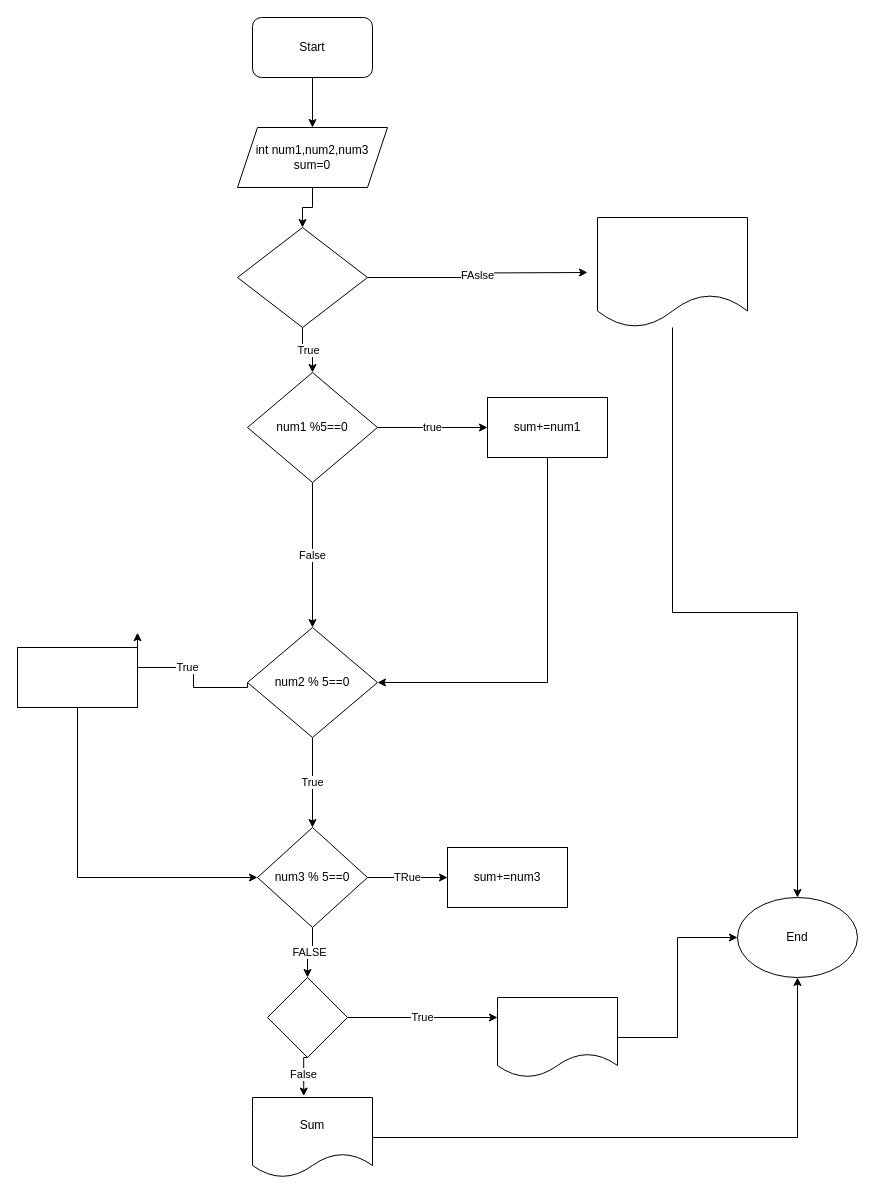
The diagram is 875 pixels wide and 1195 high, and some of its shapes have lost their labels. Each missing label, with the box of its shape:
5 e bolunen eded yoxdur: (496, 996, 618, 1078)
Eded musbet olmalidi: (596, 216, 748, 328)
num1.num2,num3 >=0: (236, 226, 368, 328)
sum+=num2: (16, 646, 138, 708)
sum==0: (266, 976, 348, 1058)
